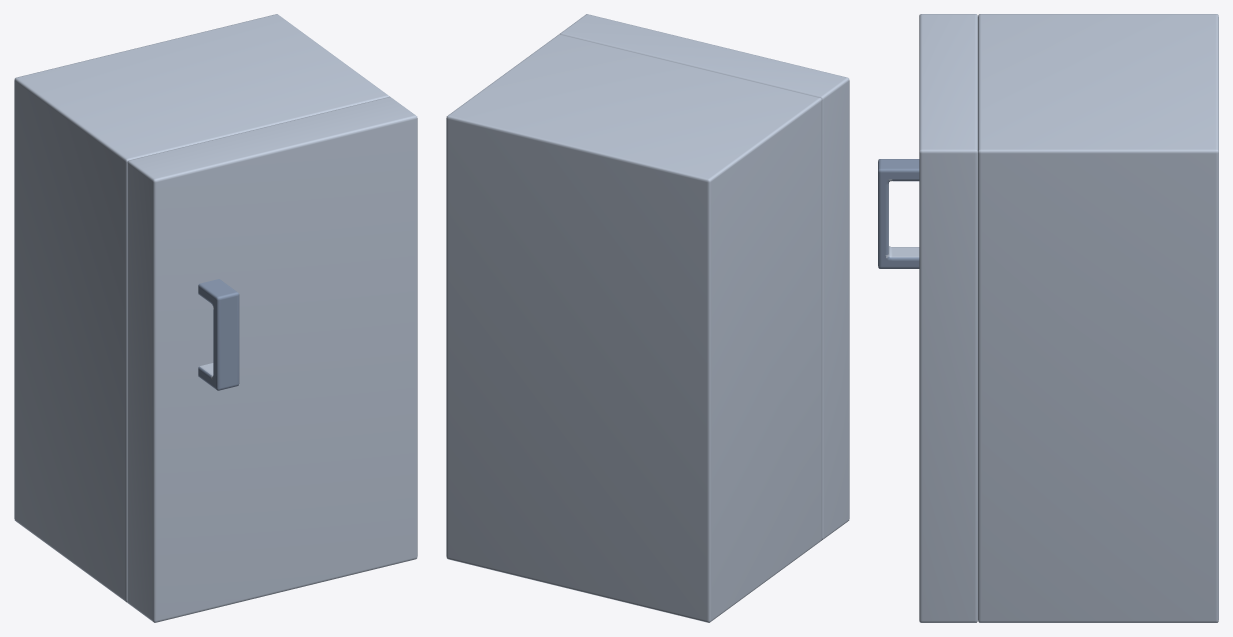
Rendered from fridge.glb.
The picture shows the model from 3 angles, left to right: view 1: azimuth 30°, elevation 25°; view 2: azimuth 150°, elevation 25°; view 3: azimuth 270°, elevation 25°; orthographic projection. The views are drawn at different scales.
Parts seen in each view (by area): view 1: Fridge.Door, Fridge; view 2: Fridge, Fridge.Door; view 3: Fridge, Fridge.Door.
Part boxes in pixels (x1=…): Fridge.Door: x1=127, y1=97, x2=417, y2=622; Fridge: x1=14, y1=14, x2=389, y2=602; Fridge: x1=446, y1=34, x2=821, y2=622; Fridge.Door: x1=560, y1=14, x2=849, y2=539; Fridge: x1=978, y1=14, x2=1218, y2=622; Fridge.Door: x1=878, y1=14, x2=977, y2=622.
Bounding box in the file's own units: 0.6828 × 1.1 × 0.7159.
Materials: 2 (2 with a texture image).
